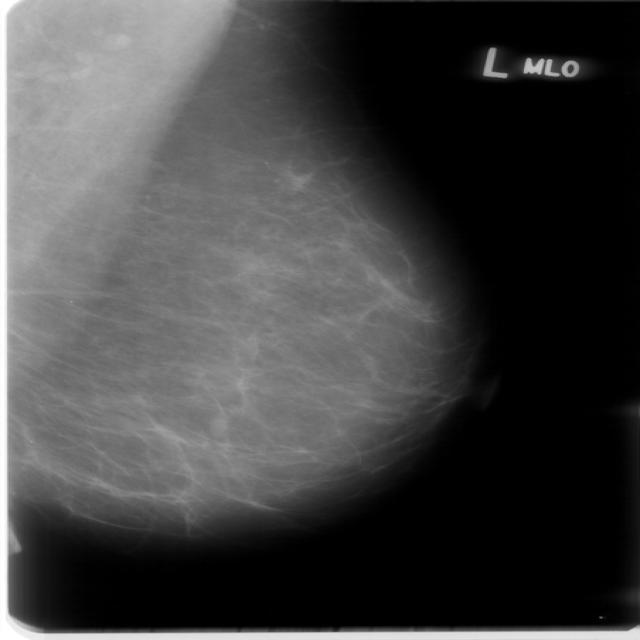tumour: (206, 412, 226, 436)
